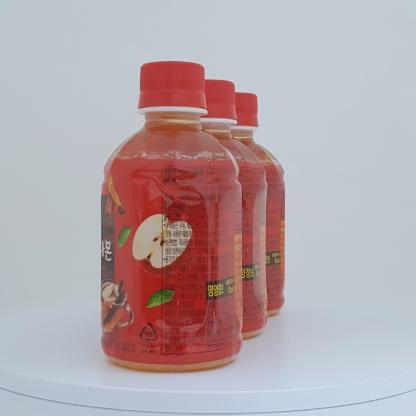----------280ML: (101, 60, 243, 373)
